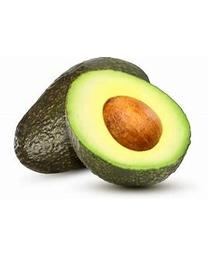avocado: (13, 56, 153, 174), (63, 68, 193, 189)
